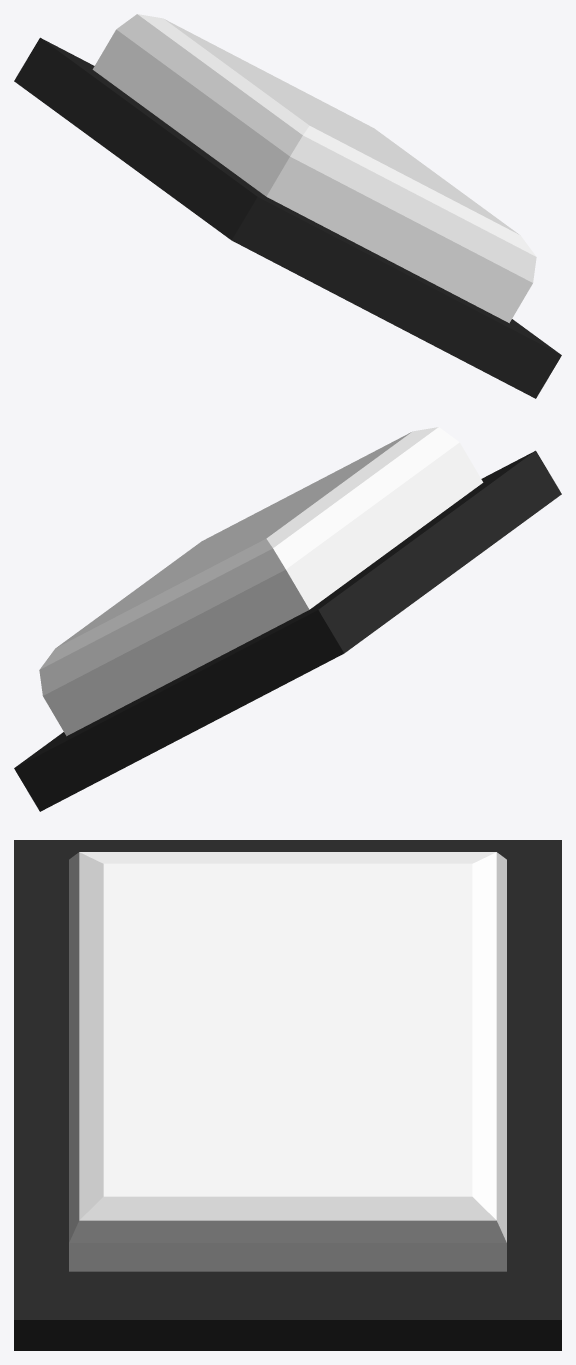
The model's file is Buttom_01.gltf.
3 renders of one model, top to bottom at view 1: azimuth 30°, elevation 25°; view 2: azimuth 150°, elevation 25°; view 3: azimuth 270°, elevation 25°, orthographic. The views are drawn at different scales.
Parts seen in each view (by area): view 1: Cube.001; view 2: Cube.001; view 3: Cube.001.
Boxes of the visible parts, x1=… form: Cube.001: x1=14, y1=14, x2=561, y2=398; Cube.001: x1=14, y1=427, x2=561, y2=811; Cube.001: x1=14, y1=840, x2=561, y2=1350.
Bounding box in the file's own units: 0.3888 × 0.3314 × 0.4428.
Materials: 1 (1 with a texture image).
